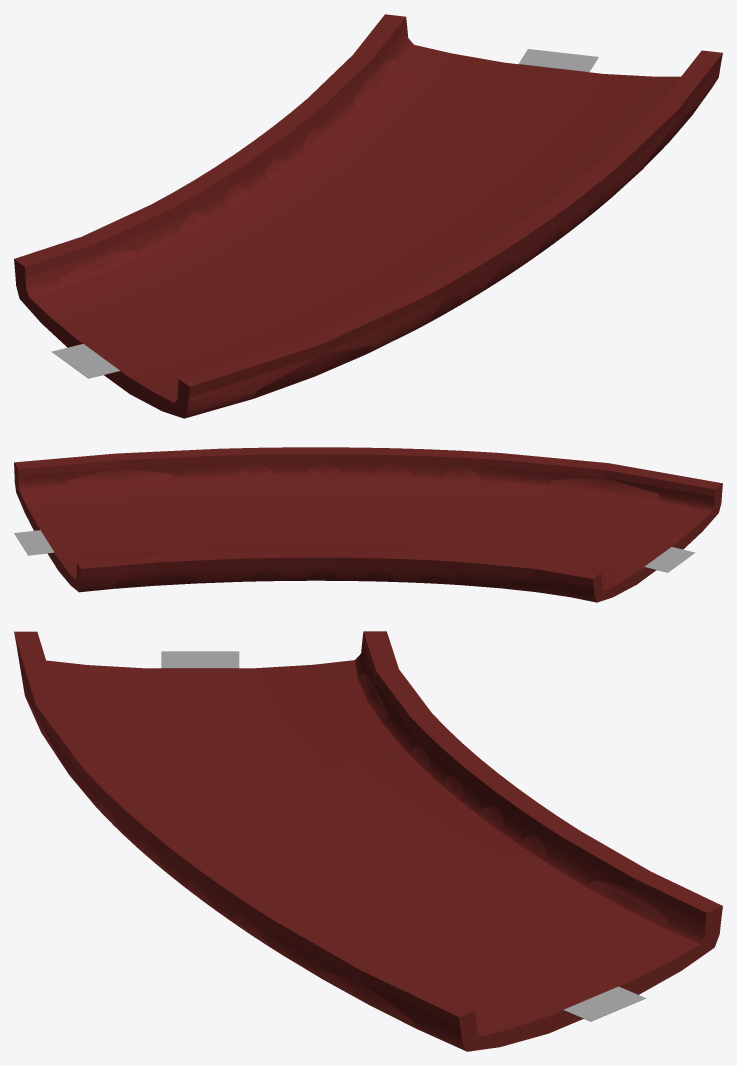
File: FlatConnector45Left.fbx
3 views of the same model, one above another, from view 1: azimuth 30°, elevation 25°; view 2: azimuth 150°, elevation 25°; view 3: azimuth 270°, elevation 25° (orthographic). The views are drawn at different scales.
Visible parts, largest first — view 1: pPipe3, pasted__pCube42, pasted__pCube3; view 2: pPipe3, pasted__pCube3, pasted__pCube42; view 3: pPipe3, pasted__pCube3, pasted__pCube42.
Part boxes in pixels (left/top/right/bottom): pPipe3: left=14, top=14, right=722, bottom=418; pasted__pCube42: left=518, top=49, right=598, bottom=72; pasted__pCube3: left=52, top=344, right=119, bottom=378; pPipe3: left=14, top=447, right=722, bottom=602; pasted__pCube3: left=644, top=547, right=695, bottom=572; pasted__pCube42: left=14, top=530, right=54, bottom=555; pPipe3: left=14, top=631, right=722, bottom=1051; pasted__pCube3: left=161, top=651, right=239, bottom=668; pasted__pCube42: left=563, top=986, right=646, bottom=1021.
Bounding box in the file's own units: 24.36 × 1.53 × 18.14.
